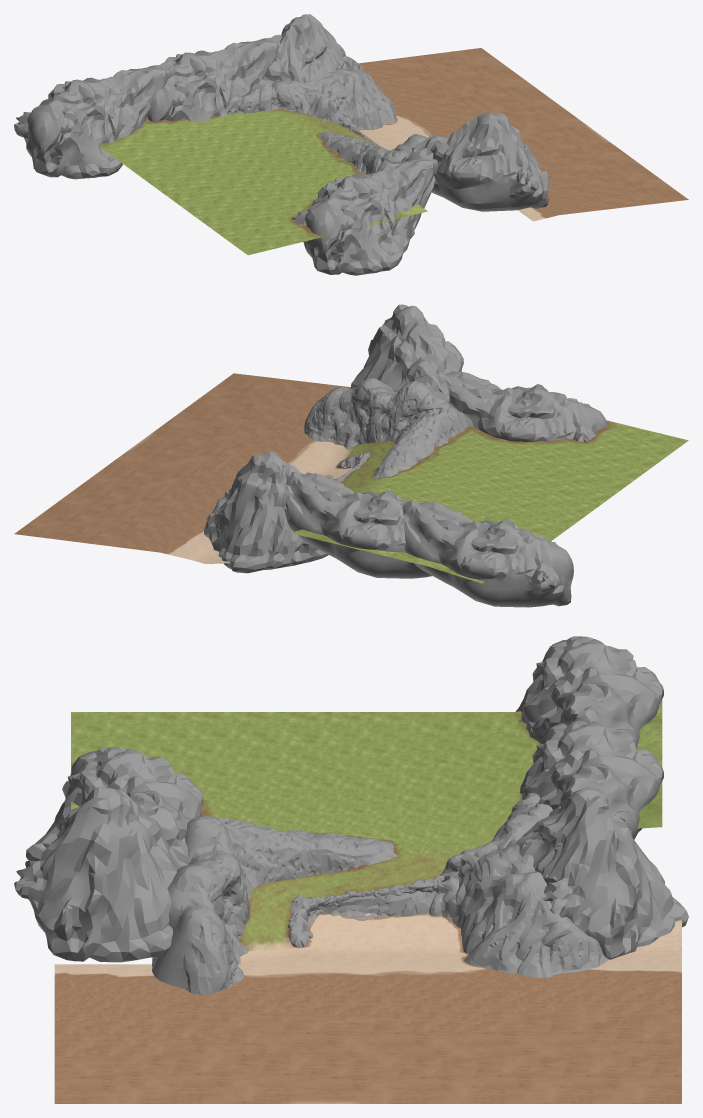
The model's file is Terrain1.fbx.
The picture shows the model from 3 angles, top to bottom: view 1: azimuth 30°, elevation 25°; view 2: azimuth 150°, elevation 25°; view 3: azimuth 270°, elevation 25°; orthographic projection. The views are drawn at different scales.
Parts seen in each view (by area): view 1: Ground, Mountain4, Mountain6, Mountain3, Mountain2, Mountain5, Mountain1; view 2: Ground, Mountain6, Mountain2, Mountain5, Mountain1, Mountain4, Mountain3; view 3: Ground, Mountain2, Mountain3, Mountain1, Mountain6, Mountain5, Mountain4, Mountain7.
Part boxes in pixels (left/top/right/bottom): Ground: left=99, top=48, right=688, bottom=255; Mountain4: left=291, top=153, right=437, bottom=275; Mountain6: left=14, top=62, right=174, bottom=179; Mountain3: left=401, top=112, right=549, bottom=211; Mountain2: left=219, top=68, right=449, bottom=174; Mountain5: left=147, top=34, right=281, bottom=122; Mountain1: left=263, top=14, right=362, bottom=82; Ground: left=14, top=373, right=688, bottom=583; Mountain6: left=402, top=500, right=573, bottom=607; Mountain2: left=204, top=378, right=467, bottom=538; Mountain5: left=285, top=472, right=431, bottom=578; Mountain1: left=207, top=451, right=328, bottom=573; Mountain4: left=438, top=371, right=607, bottom=442; Mountain3: left=350, top=304, right=463, bottom=403; Ground: left=54, top=700, right=681, bottom=1103; Mountain2: left=152, top=793, right=608, bottom=994; Mountain3: left=14, top=787, right=190, bottom=962; Mountain1: left=516, top=787, right=688, bottom=959; Mountain6: left=516, top=636, right=663, bottom=748; Mountain5: left=519, top=720, right=663, bottom=839; Mountain4: left=26, top=746, right=202, bottom=861; Mountain7: left=288, top=875, right=444, bottom=947.
Size of the model in its own units: 290 by 69.82 by 229.
Materials: 2 (1 with a texture image).
